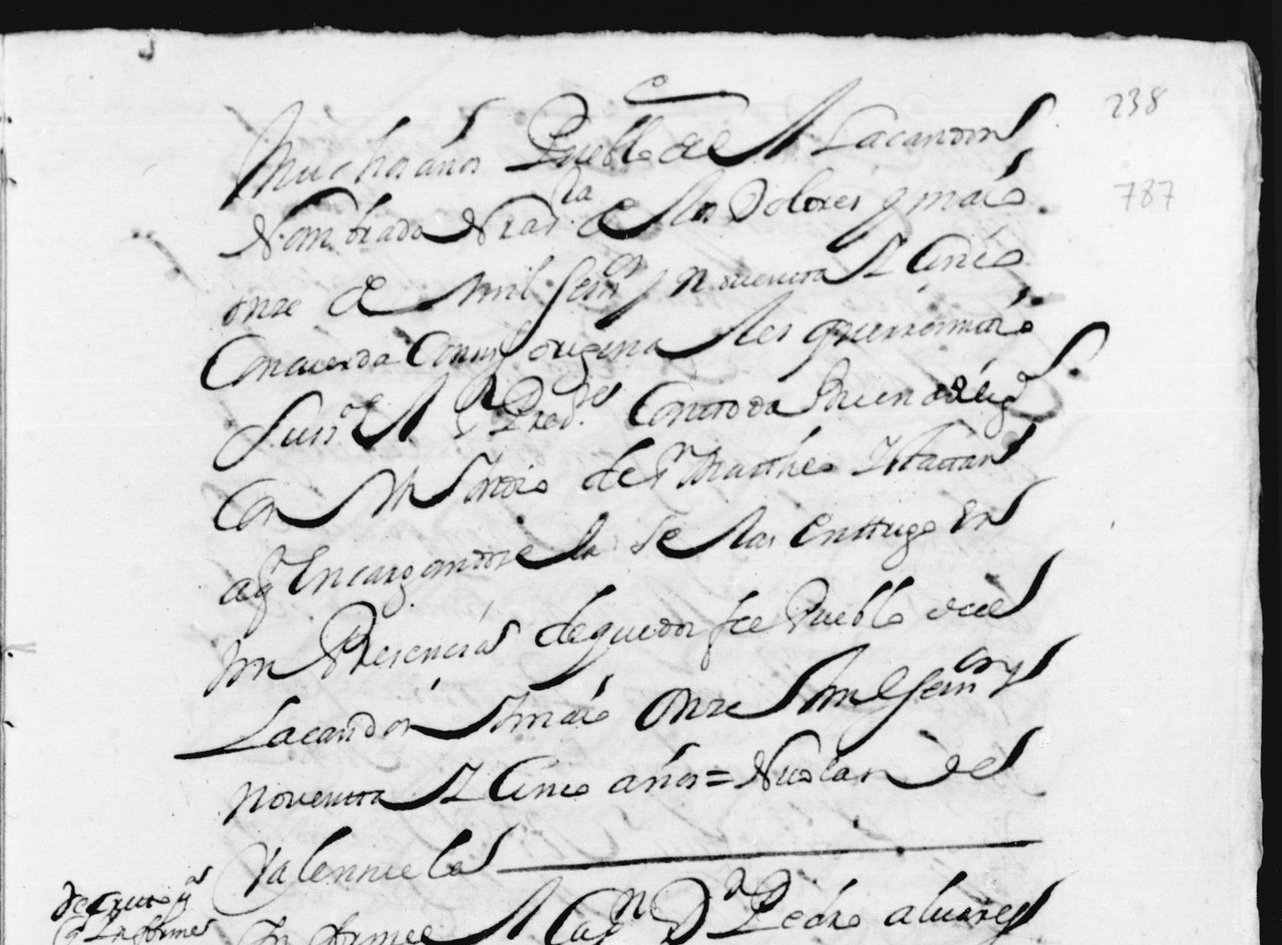lacandon: (173, 695, 508, 759), (810, 92, 1056, 156)
